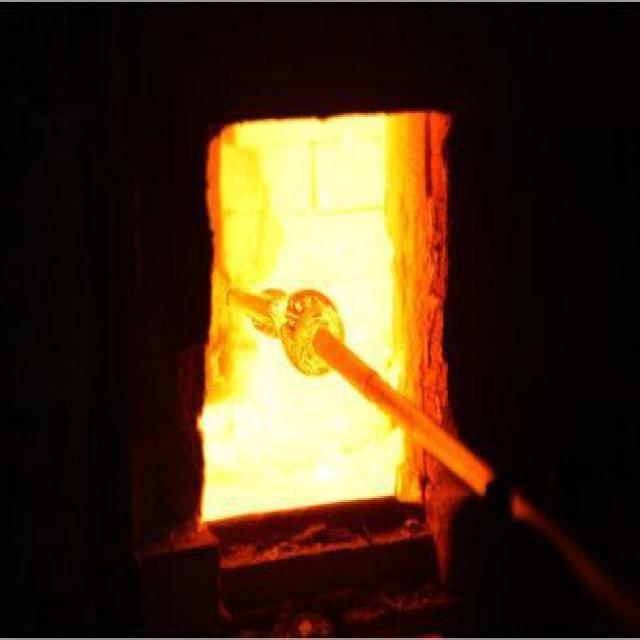fire: (189, 113, 412, 522)
